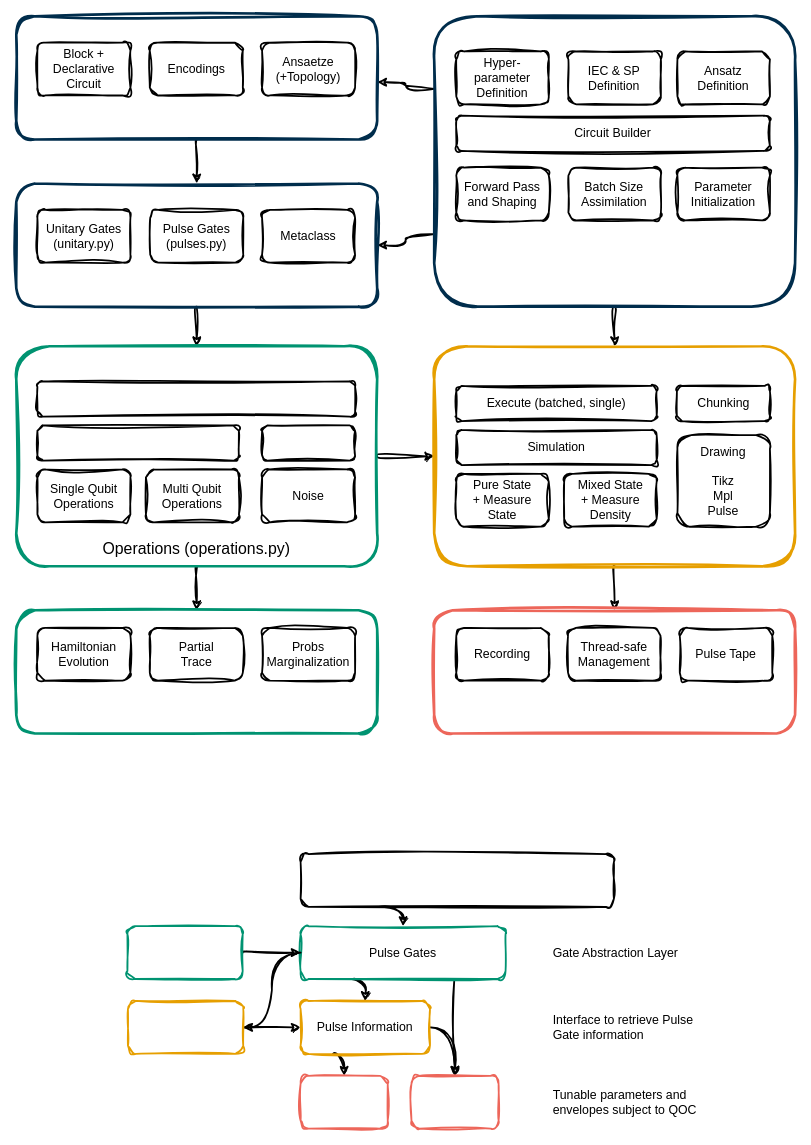
This 811x1145 diagram has some shape labels left out. Here are the shapes that lost their labels. From the top down, the box of each, then its label:
(15, 15, 378, 140): Ansaetze (ansaetze.py)
(432, 15, 796, 308): Model (model.py)
(15, 182, 378, 308): Gates (gates.py)
(36, 380, 356, 417): Operation
(36, 424, 239, 461): Hermitian
(261, 424, 356, 461): Kraus Channels
(432, 345, 796, 567): QuantumScript (yaqsi.py)
(15, 609, 378, 734): Yaqsi (yaqsi.py)
(432, 609, 796, 734): Tape (tape.py)
(299, 853, 614, 907): Gates
(126, 925, 243, 979): Tape Recording
(127, 1000, 244, 1054): QOC
(299, 1074, 388, 1129): Pulse Params
(410, 1074, 499, 1129): Pulse Envelope
